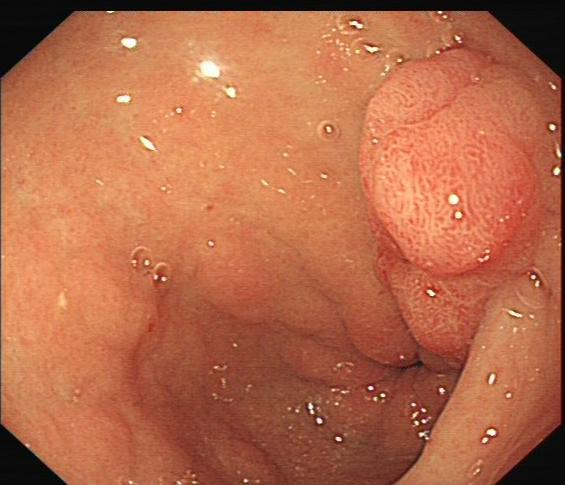Polyp: (358, 46, 538, 277)
